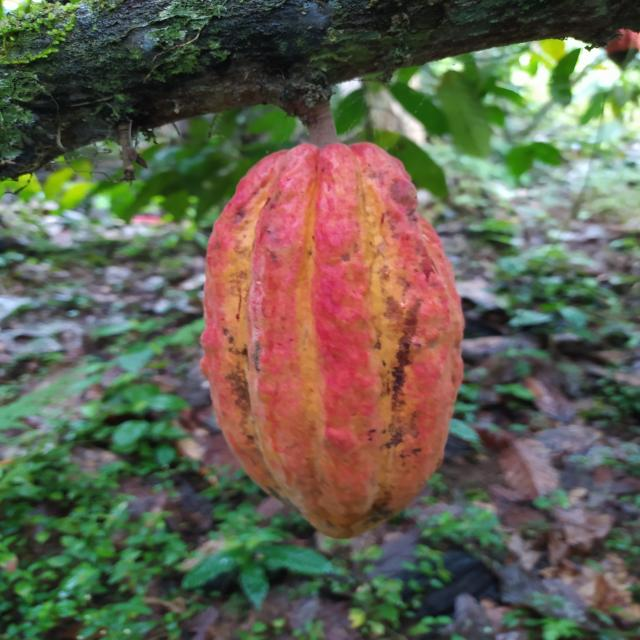Sana: (203, 140, 466, 543)
